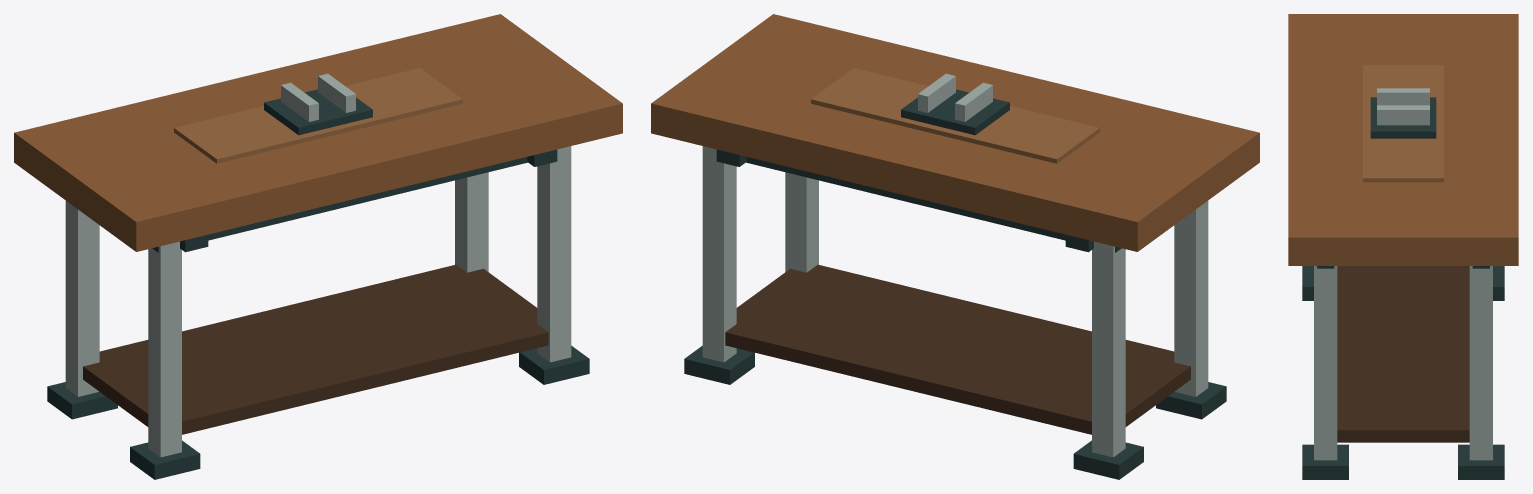
File: bench-lod1.glb
3 renders of one model, left to right at view 1: azimuth 30°, elevation 25°; view 2: azimuth 150°, elevation 25°; view 3: azimuth 270°, elevation 25°, orthographic. The views are drawn at different scales.
Parts seen in each view (by area): view 1: SM_Workbench_V3_1_LOD1; view 2: SM_Workbench_V3_1_LOD1; view 3: SM_Workbench_V3_1_LOD1.
Part boxes in pixels (box(x1,y1,x2,y2)): SM_Workbench_V3_1_LOD1: box(14, 14, 622, 479); SM_Workbench_V3_1_LOD1: box(651, 14, 1259, 479); SM_Workbench_V3_1_LOD1: box(1288, 14, 1518, 479).
Bounding box in the file's own units: 1.7 × 0.995 × 0.74.
